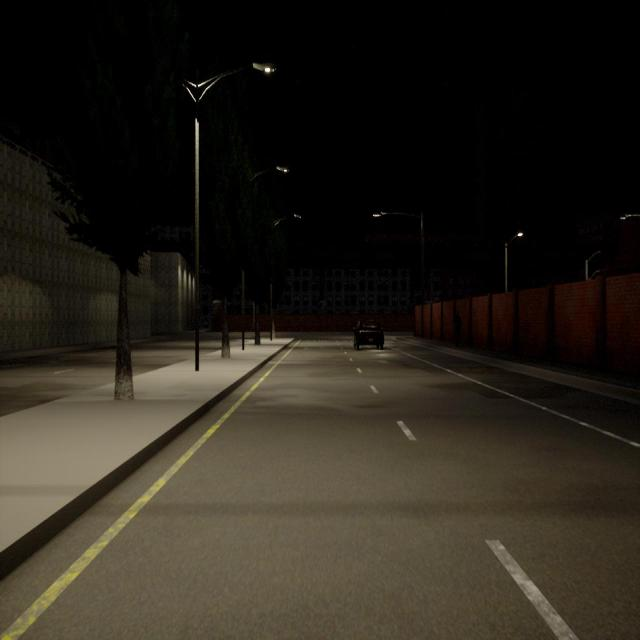Pedestrian: (452, 308, 461, 347)
Vehicle: (354, 319, 384, 350)
